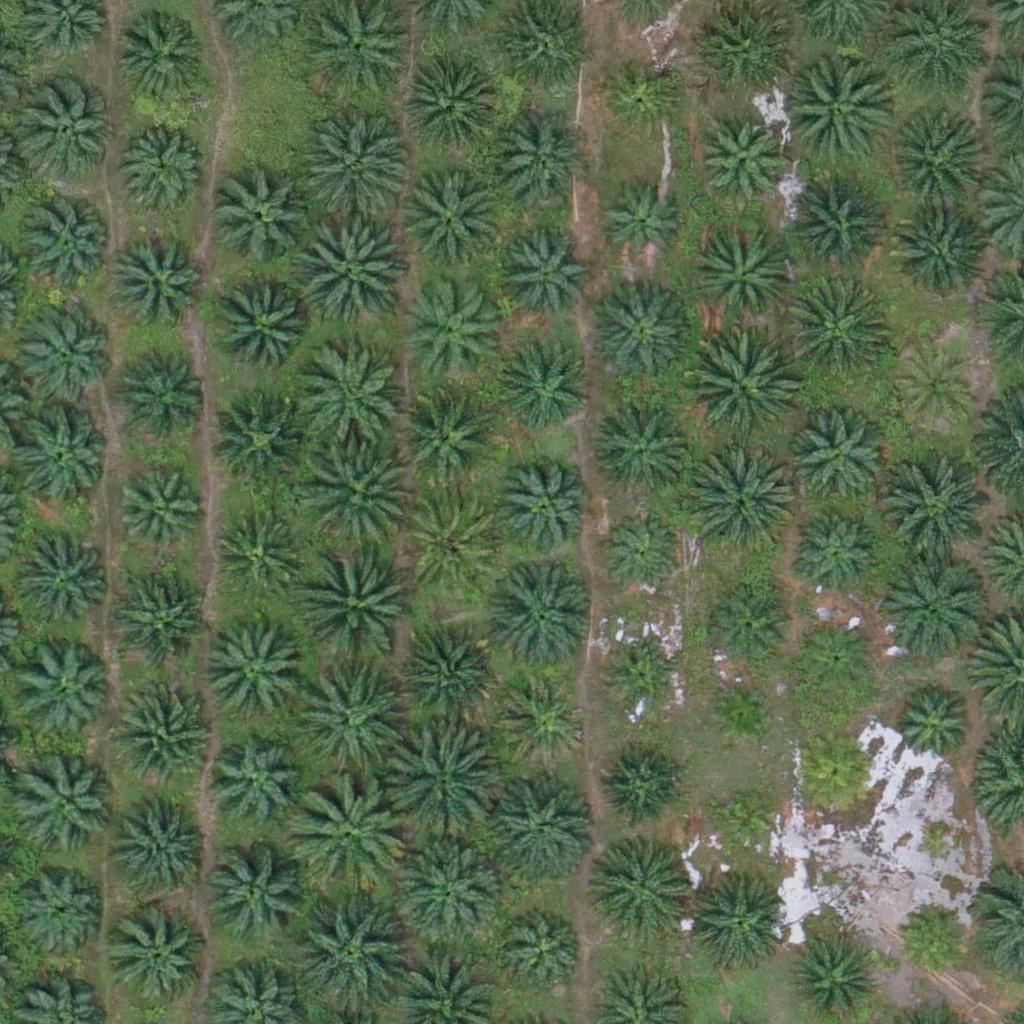Kelapa_Sawit: (290, 665, 403, 779), (299, 437, 412, 551), (296, 109, 409, 222), (774, 51, 887, 164), (294, 896, 407, 1009), (683, 444, 796, 557), (684, 332, 797, 445), (293, 345, 406, 458), (299, 216, 412, 329), (395, 833, 507, 947), (301, 540, 413, 654), (292, 779, 404, 892), (382, 727, 494, 840), (485, 768, 597, 881), (782, 274, 894, 387), (484, 558, 596, 671), (880, 457, 992, 570), (875, 550, 987, 663), (211, 166, 311, 267), (407, 54, 507, 155), (491, 1, 591, 102), (496, 110, 596, 211), (779, 173, 879, 274), (882, 104, 982, 205), (892, 4, 992, 105), (11, 638, 111, 739), (109, 906, 209, 1007), (110, 682, 210, 783), (207, 733, 307, 834), (205, 843, 305, 944), (684, 872, 784, 973), (787, 406, 887, 507), (691, 225, 791, 326), (589, 285, 689, 386), (591, 398, 691, 499), (493, 457, 593, 558), (399, 275, 499, 376), (396, 385, 496, 486), (112, 570, 212, 671), (11, 403, 111, 504), (9, 529, 109, 630), (22, 77, 122, 177), (115, 9, 215, 109), (14, 198, 114, 298), (403, 168, 503, 268), (16, 757, 116, 857), (117, 793, 217, 893), (201, 624, 301, 724), (397, 628, 497, 728), (590, 836, 690, 936), (883, 201, 983, 301), (402, 494, 502, 594), (213, 276, 313, 376), (213, 390, 313, 490), (116, 341, 216, 441), (108, 232, 208, 332), (17, 305, 117, 405), (791, 726, 879, 815), (118, 119, 206, 207), (600, 49, 688, 137), (695, 117, 783, 205), (791, 613, 879, 701), (892, 344, 980, 432), (596, 511, 684, 599), (499, 343, 587, 431), (498, 234, 586, 322), (212, 509, 300, 597), (114, 471, 202, 559), (793, 509, 880, 598), (595, 181, 682, 269), (499, 676, 586, 764), (16, 868, 103, 956), (503, 910, 590, 998), (598, 740, 685, 828), (887, 681, 974, 769), (702, 583, 789, 671), (894, 898, 969, 974), (702, 675, 777, 751), (706, 783, 781, 859), (608, 646, 683, 721)
